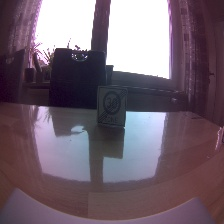dreisiger_zone_ende: (96, 85, 127, 127)
